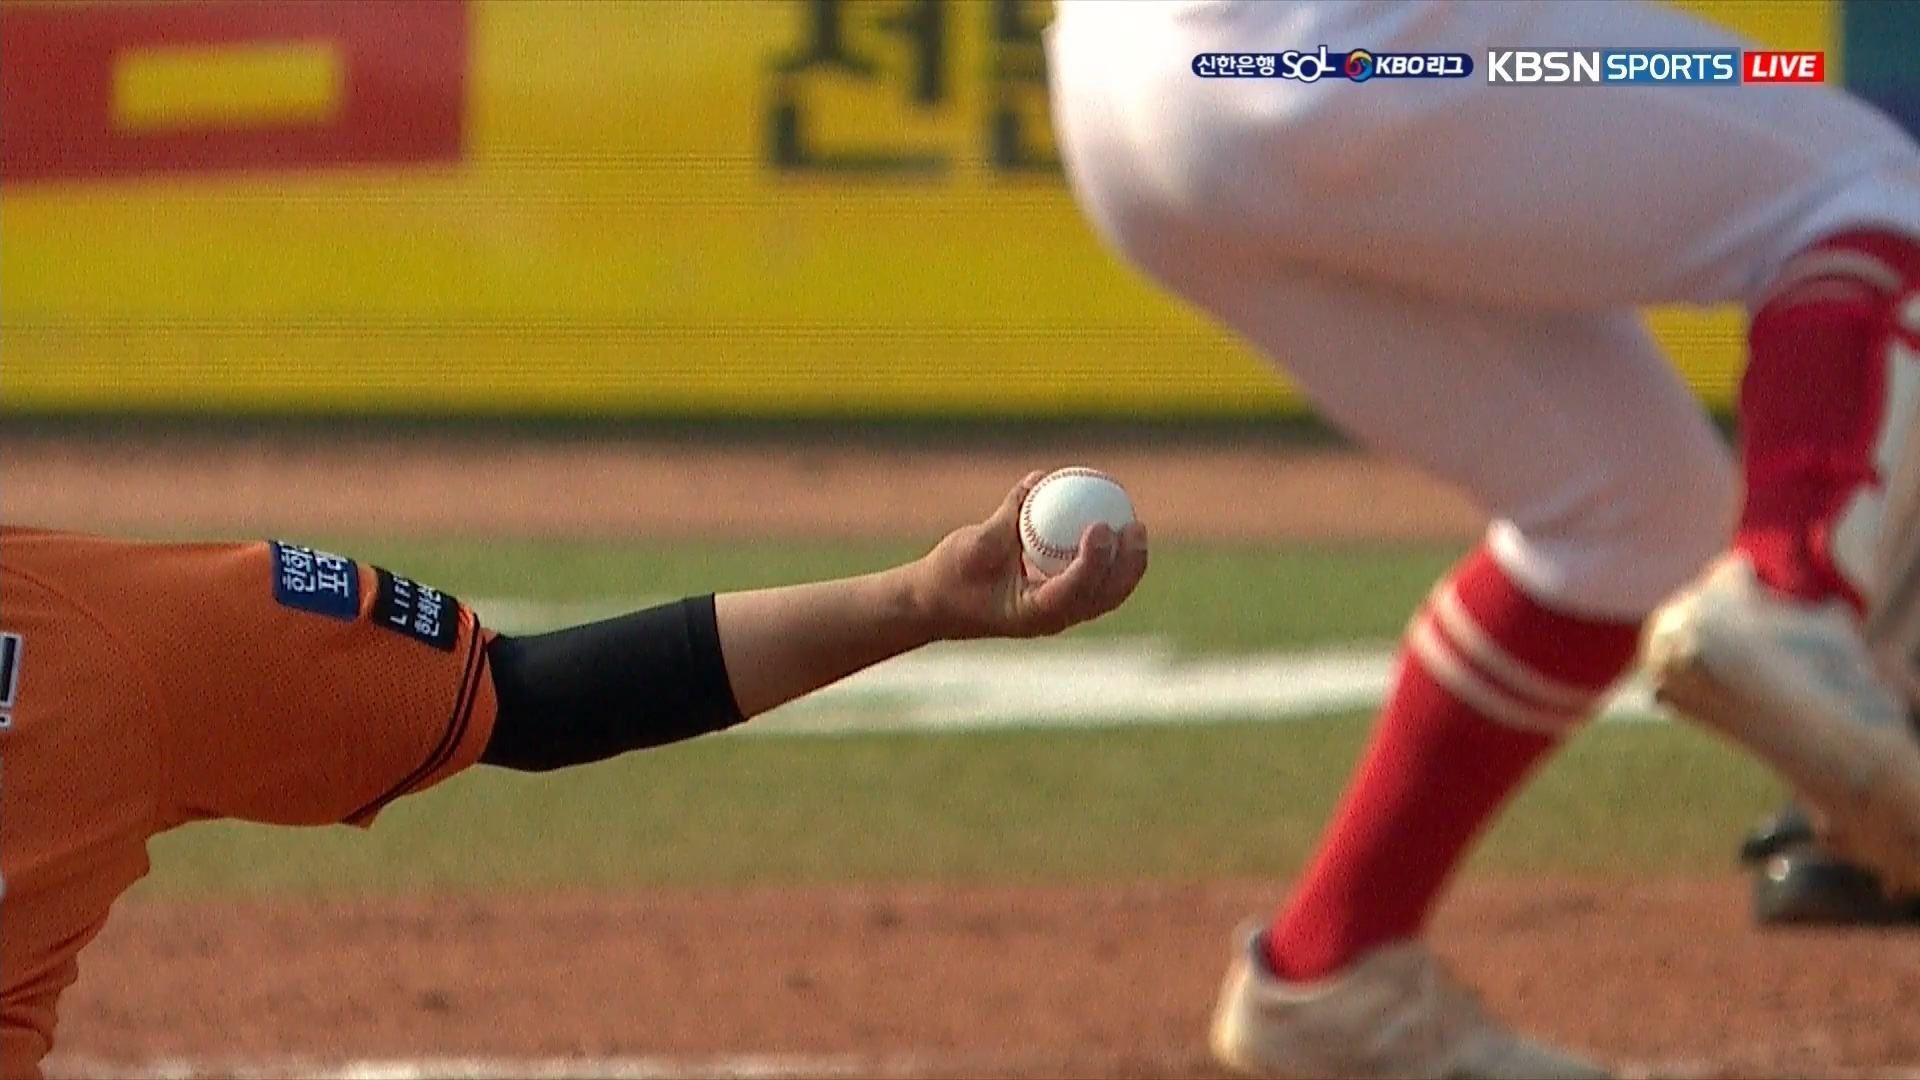zoomin_hand: (462, 427, 1188, 812)
